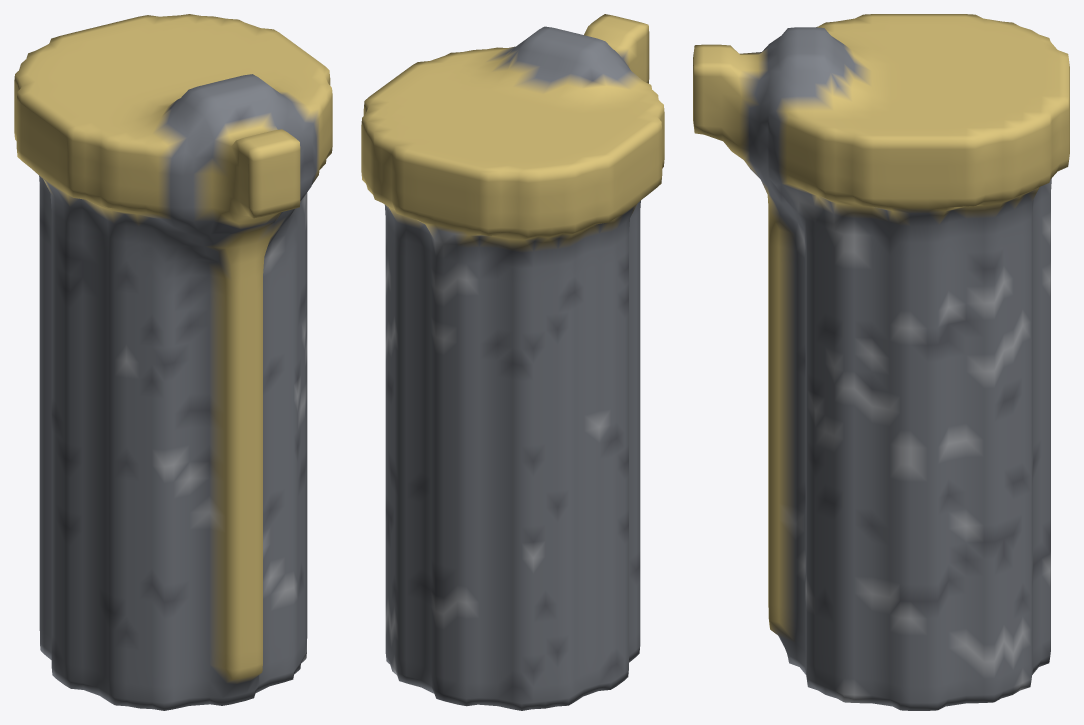
Rendered from plate_epic_boot_shin_L.glb.
3 views of the same model, side by side, from view 1: azimuth 30°, elevation 25°; view 2: azimuth 150°, elevation 25°; view 3: azimuth 270°, elevation 25° (orthographic). The views are drawn at different scales.
Visible parts, largest first — view 1: plate_epic_boot_shin_L; view 2: plate_epic_boot_shin_L; view 3: plate_epic_boot_shin_L.
Boxes of the visible parts, x1=… form: plate_epic_boot_shin_L: x1=14, y1=14, x2=332, y2=710; plate_epic_boot_shin_L: x1=361, y1=14, x2=664, y2=710; plate_epic_boot_shin_L: x1=693, y1=14, x2=1069, y2=710.
Size of the model in its own units: 0.192 by 0.432 by 0.24.
